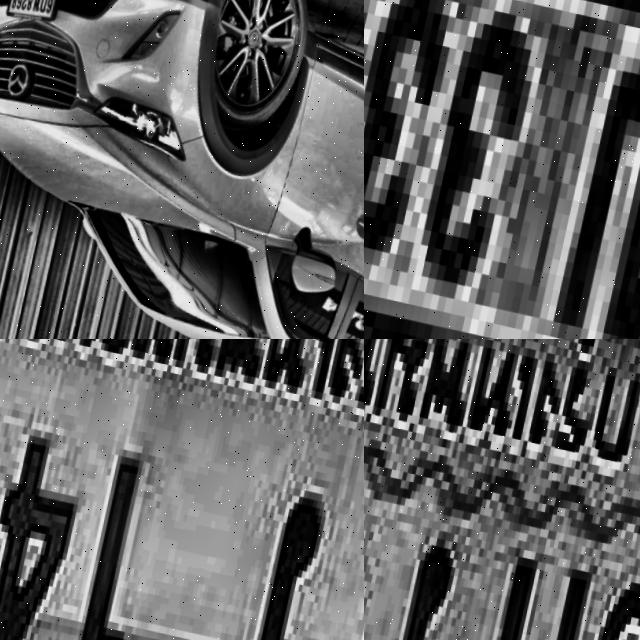license-plate: (0, 339, 364, 640), (364, 0, 640, 339), (364, 339, 640, 640), (2, 0, 68, 28)
